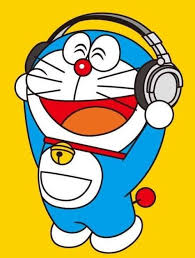doraemon: (13, 28, 174, 253)
